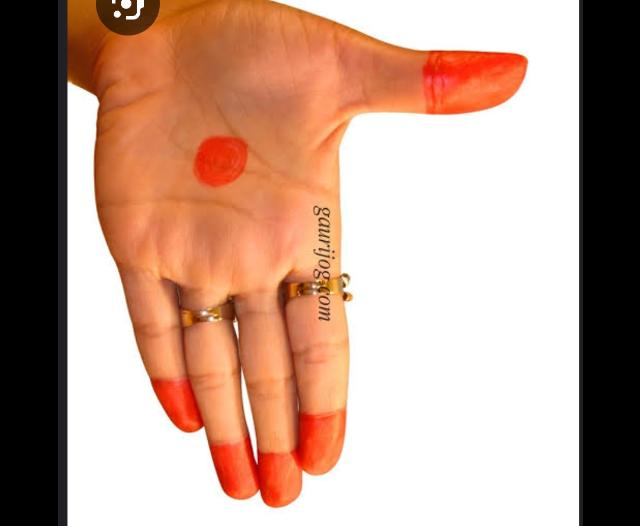ardhachandra: (80, 36, 552, 514)
